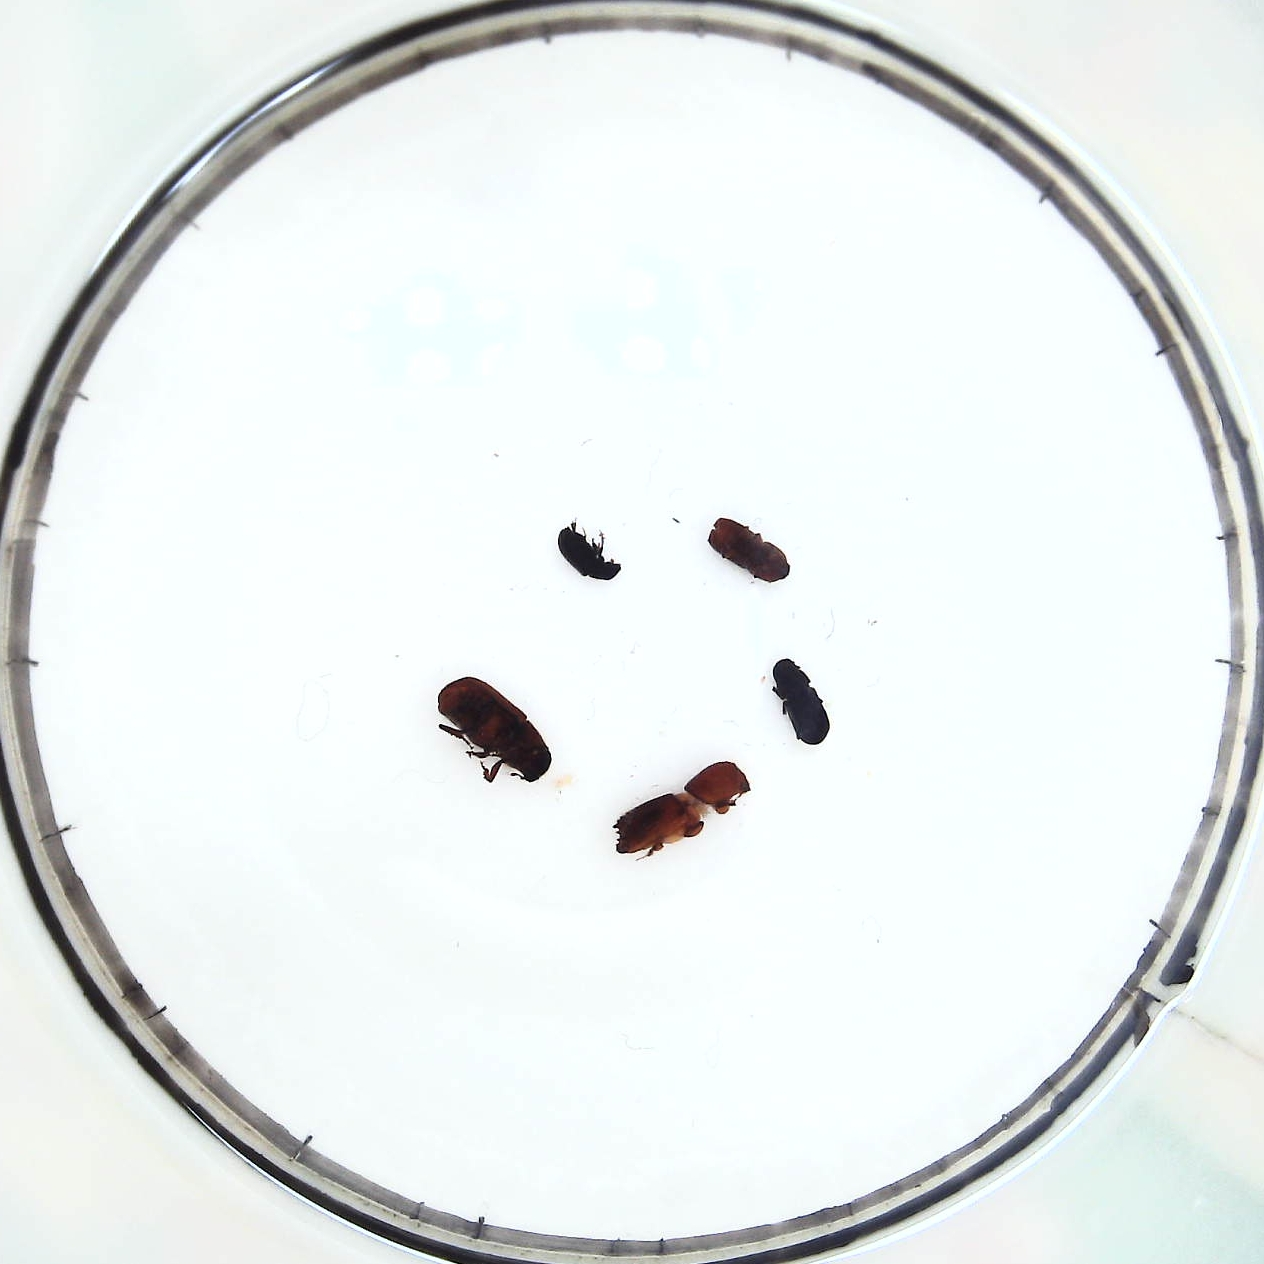Boerner: (612, 760, 747, 852)
Leconte: (434, 673, 552, 789)
Linnaeus: (704, 512, 791, 588)
armandi: (770, 655, 831, 745)
coleoptera: (556, 522, 620, 582)
